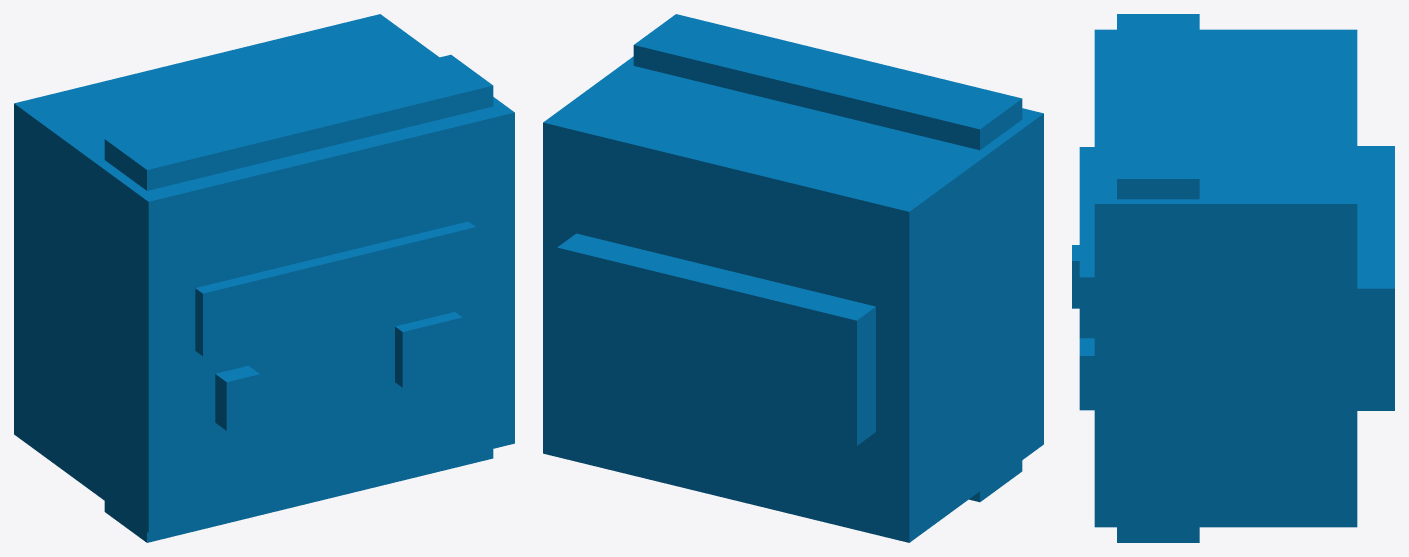
The model's file is PLC-BASE.glb.
3 views of the same model, side by side, from view 1: azimuth 30°, elevation 25°; view 2: azimuth 150°, elevation 25°; view 3: azimuth 270°, elevation 25° (orthographic). The views are drawn at different scales.
Parts seen in each view (by area): view 1: PLC-BASE; view 2: PLC-BASE; view 3: PLC-BASE.
Part boxes in pixels (left/top/right/bottom): PLC-BASE: left=14, top=14, right=514, bottom=542; PLC-BASE: left=543, top=14, right=1043, bottom=542; PLC-BASE: left=1072, top=14, right=1394, bottom=542.
Bounding box in the file's own units: 0.11 × 0.107 × 0.086.
